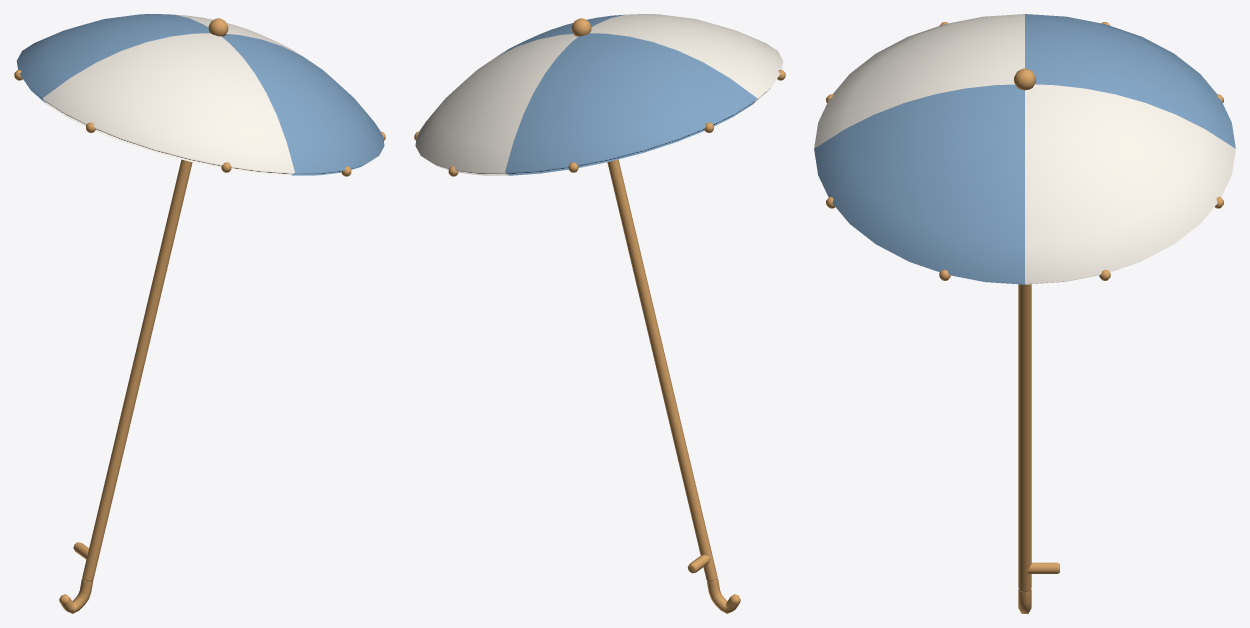
File: hotel_umbrella.glb
3 views of the same model, side by side, from view 1: azimuth 30°, elevation 25°; view 2: azimuth 150°, elevation 25°; view 3: azimuth 270°, elevation 25° (orthographic). The views are drawn at different scales.
Visible parts, largest first — view 1: hotel_umbrella_ArmR; view 2: hotel_umbrella_ArmR; view 3: hotel_umbrella_ArmR.
Boxes of the visible parts, box(x1,y1,x2,y2) form: hotel_umbrella_ArmR: box(14, 14, 385, 613); hotel_umbrella_ArmR: box(414, 14, 785, 613); hotel_umbrella_ArmR: box(814, 14, 1235, 613).
Size of the model in its own units: 0.8703 by 1.47 by 0.9.
